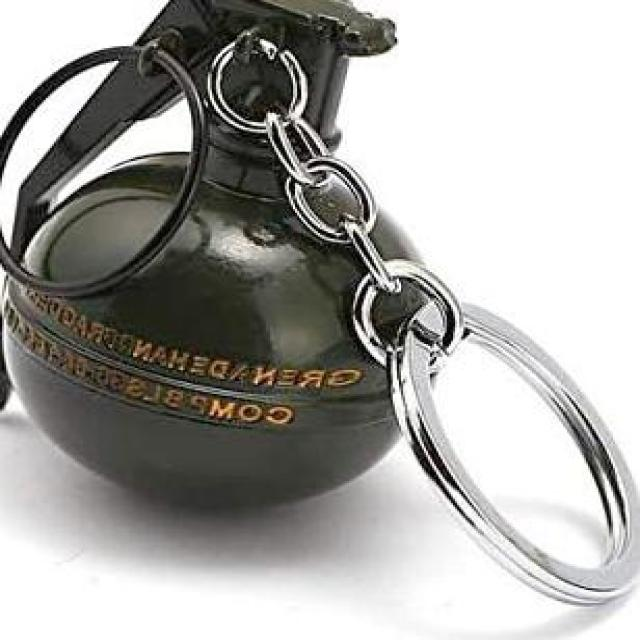grenade: (3, 1, 442, 512)
